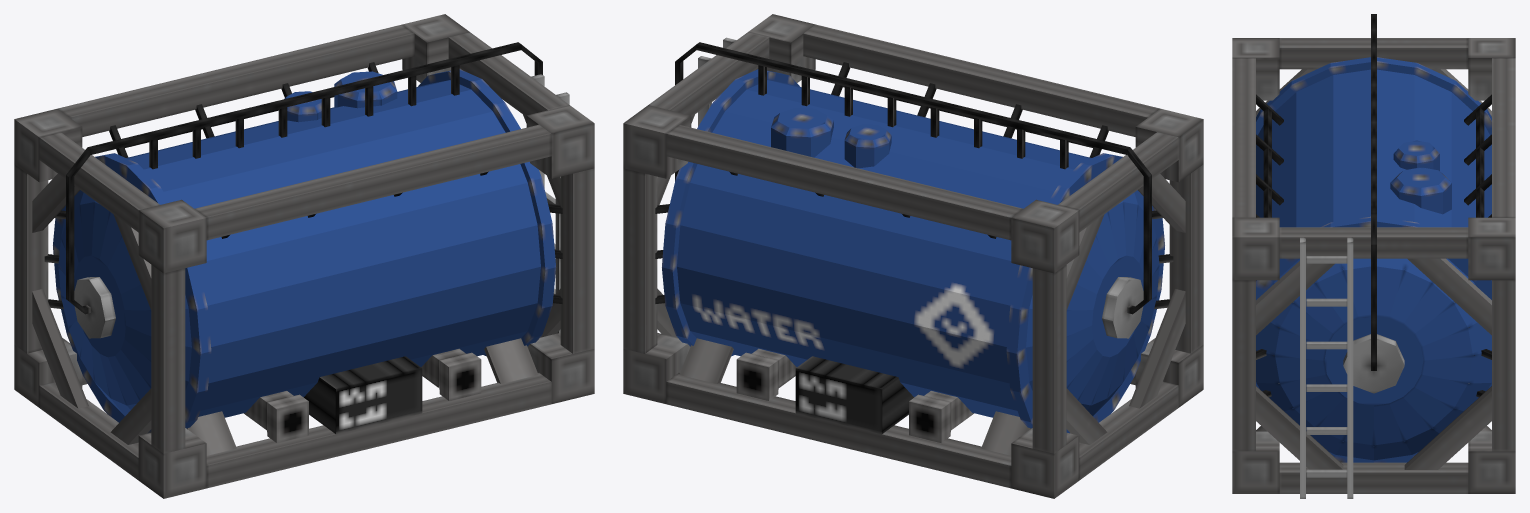
The model's file is tank_water.obj.
The picture shows the model from 3 angles, left to right: view 1: azimuth 30°, elevation 25°; view 2: azimuth 150°, elevation 25°; view 3: azimuth 270°, elevation 25°; orthographic projection. The views are drawn at different scales.
Parts seen in each view (by area): view 1: Frame; view 2: Frame; view 3: Frame.
Boxes of the visible parts, x1,y1,x2,y2 form: Frame: (14, 14, 594, 498); Frame: (623, 14, 1203, 498); Frame: (1232, 14, 1515, 498).
Size of the model in its own units: 5.5 by 3.28 by 3.
